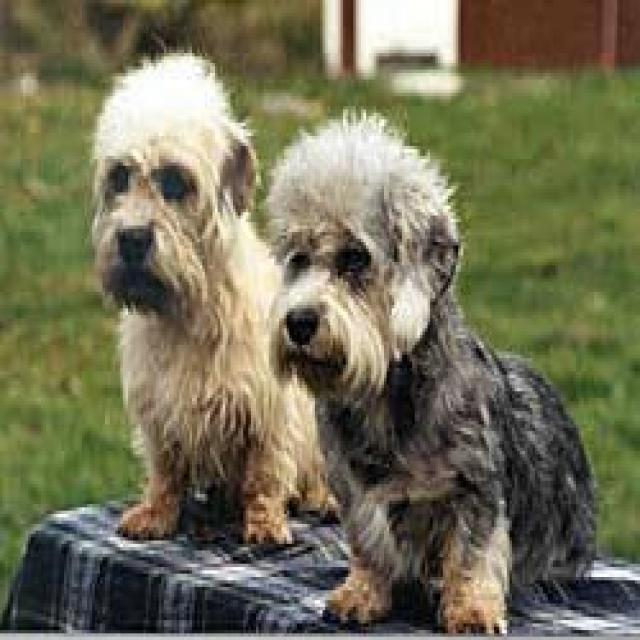dandie_dinmont: (266, 110, 596, 630), (72, 33, 346, 561)
